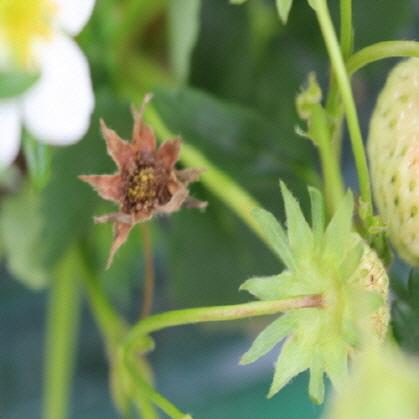Gray Mold: (75, 92, 209, 271)
